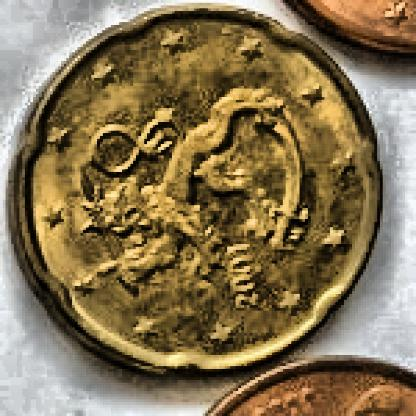coin: (9, 5, 383, 375)
